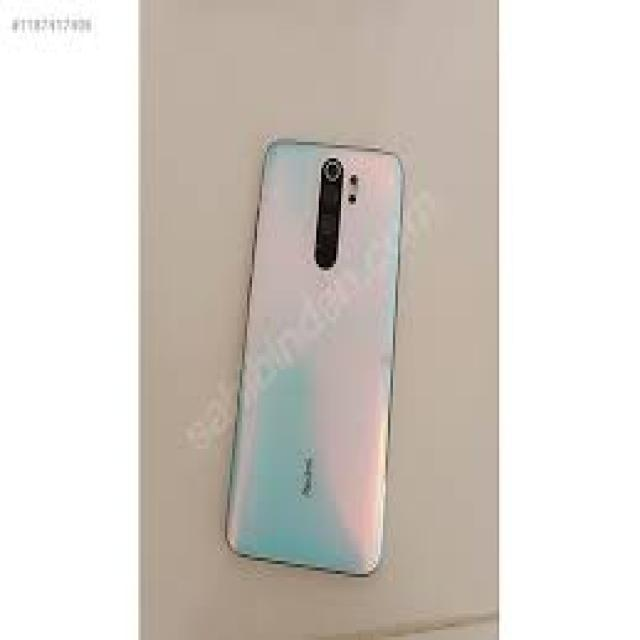Red Mi Note 8 Pro: (222, 139, 408, 581)
